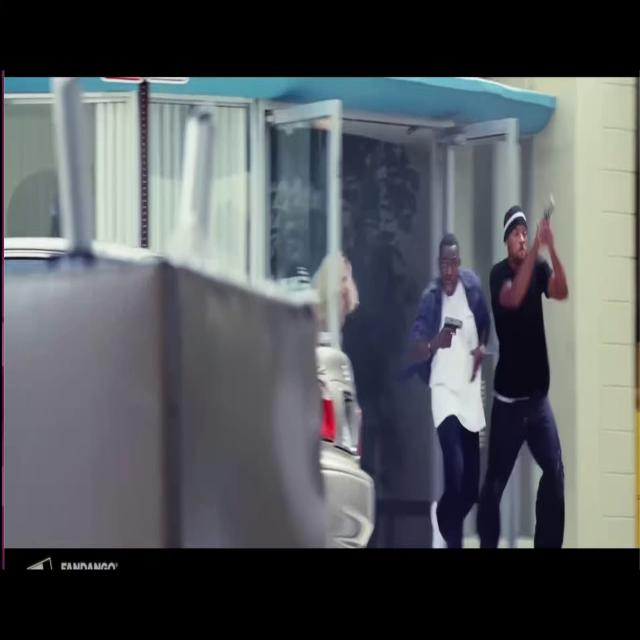weapons: (532, 191, 560, 251), (440, 308, 470, 359)
